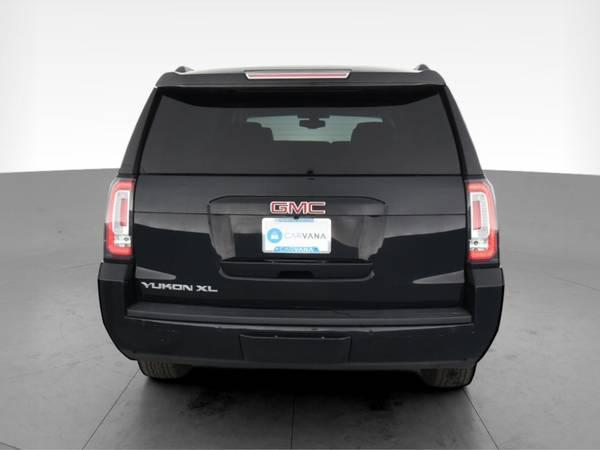Left_Taillight: (102, 174, 134, 262)
Rear_Bumper: (97, 261, 504, 374)
Rear_Windshield: (140, 82, 466, 174)
Right_Taillight: (465, 174, 501, 266)
Roof: (119, 64, 487, 175)
Tailgate: (131, 171, 469, 305)
